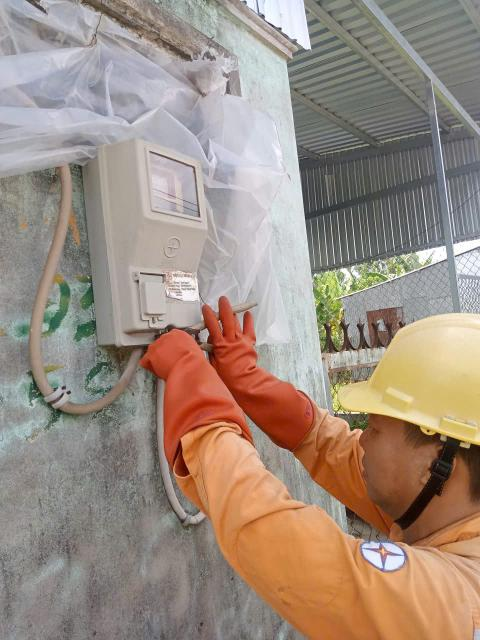gloves: (97, 323, 258, 462), (192, 285, 326, 442)
helmet: (332, 288, 480, 458)
